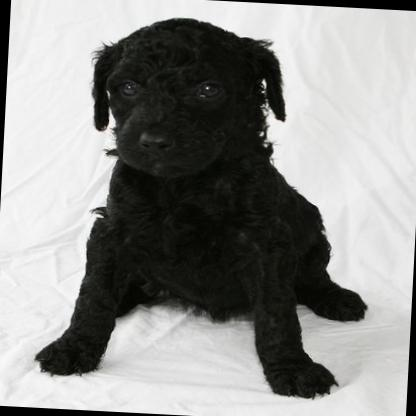standard_poodle: (30, 9, 382, 402)
